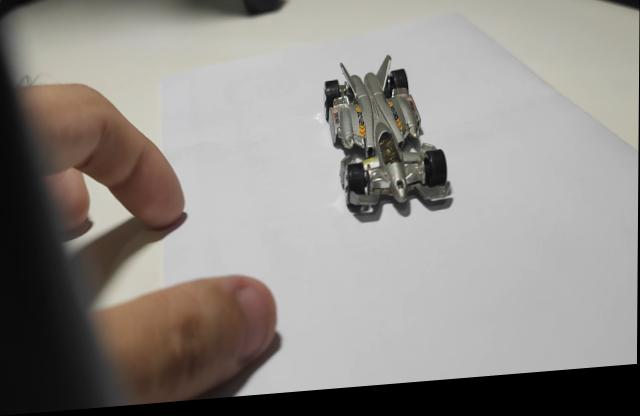05_DC121: (323, 63, 455, 231)
